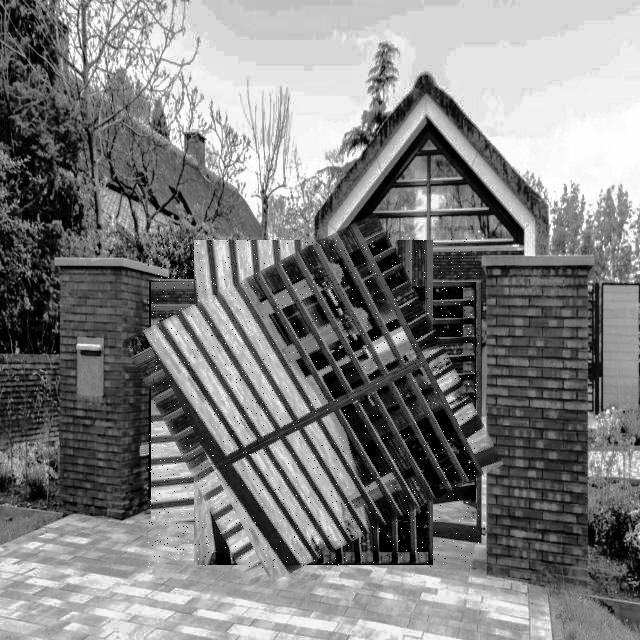fences: (148, 237, 479, 568)
